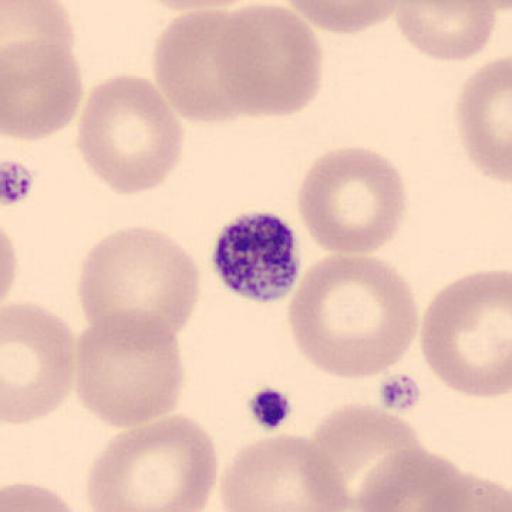Platelet: (208, 208, 304, 304), (246, 384, 296, 433)
RBC: (286, 252, 419, 384), (76, 224, 203, 344), (72, 306, 185, 429), (74, 72, 183, 196), (85, 413, 221, 512), (295, 143, 409, 256), (308, 400, 426, 507), (216, 2, 324, 118), (419, 268, 512, 400), (150, 9, 252, 126), (216, 432, 353, 512), (2, 299, 76, 425), (2, 36, 85, 142), (453, 54, 512, 185), (352, 447, 466, 512), (393, 0, 502, 63), (1, 0, 77, 69), (412, 468, 512, 512), (280, 0, 401, 35), (1, 479, 86, 512), (137, 0, 273, 13), (1, 223, 19, 305)
